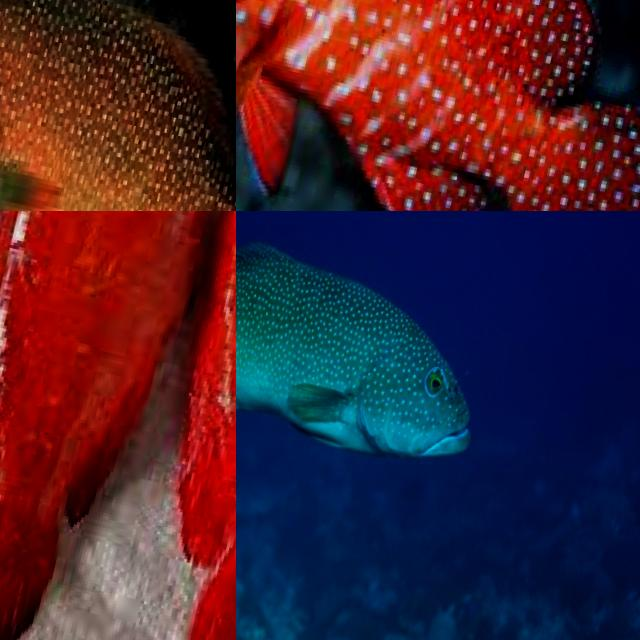Plectropomus-leopardus: (0, 211, 236, 640), (236, 211, 529, 514), (236, 0, 640, 211), (0, 0, 236, 211)
